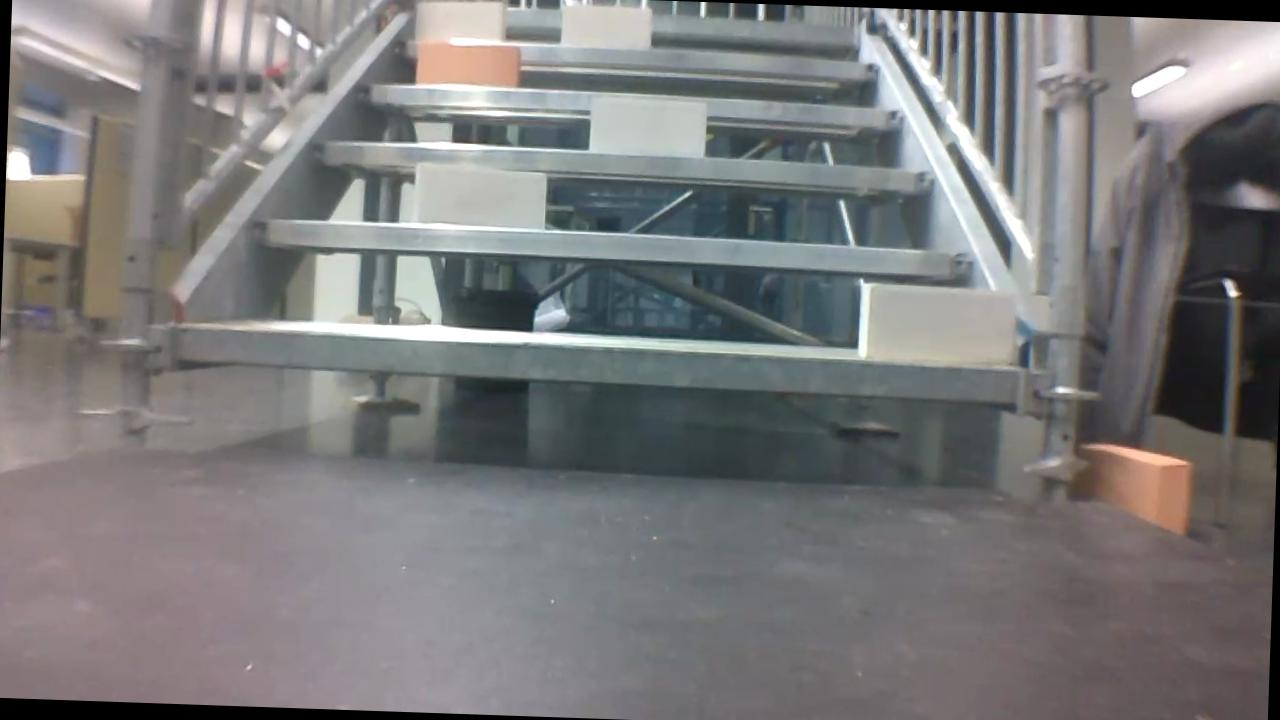brick: (859, 281, 1012, 362), (414, 166, 544, 228), (589, 99, 707, 156), (417, 42, 520, 87), (560, 7, 651, 48), (417, 1, 504, 38)
edge: (170, 326, 1015, 404), (253, 219, 979, 276), (316, 140, 934, 192), (360, 82, 908, 131), (398, 38, 879, 82), (417, 4, 860, 45)
